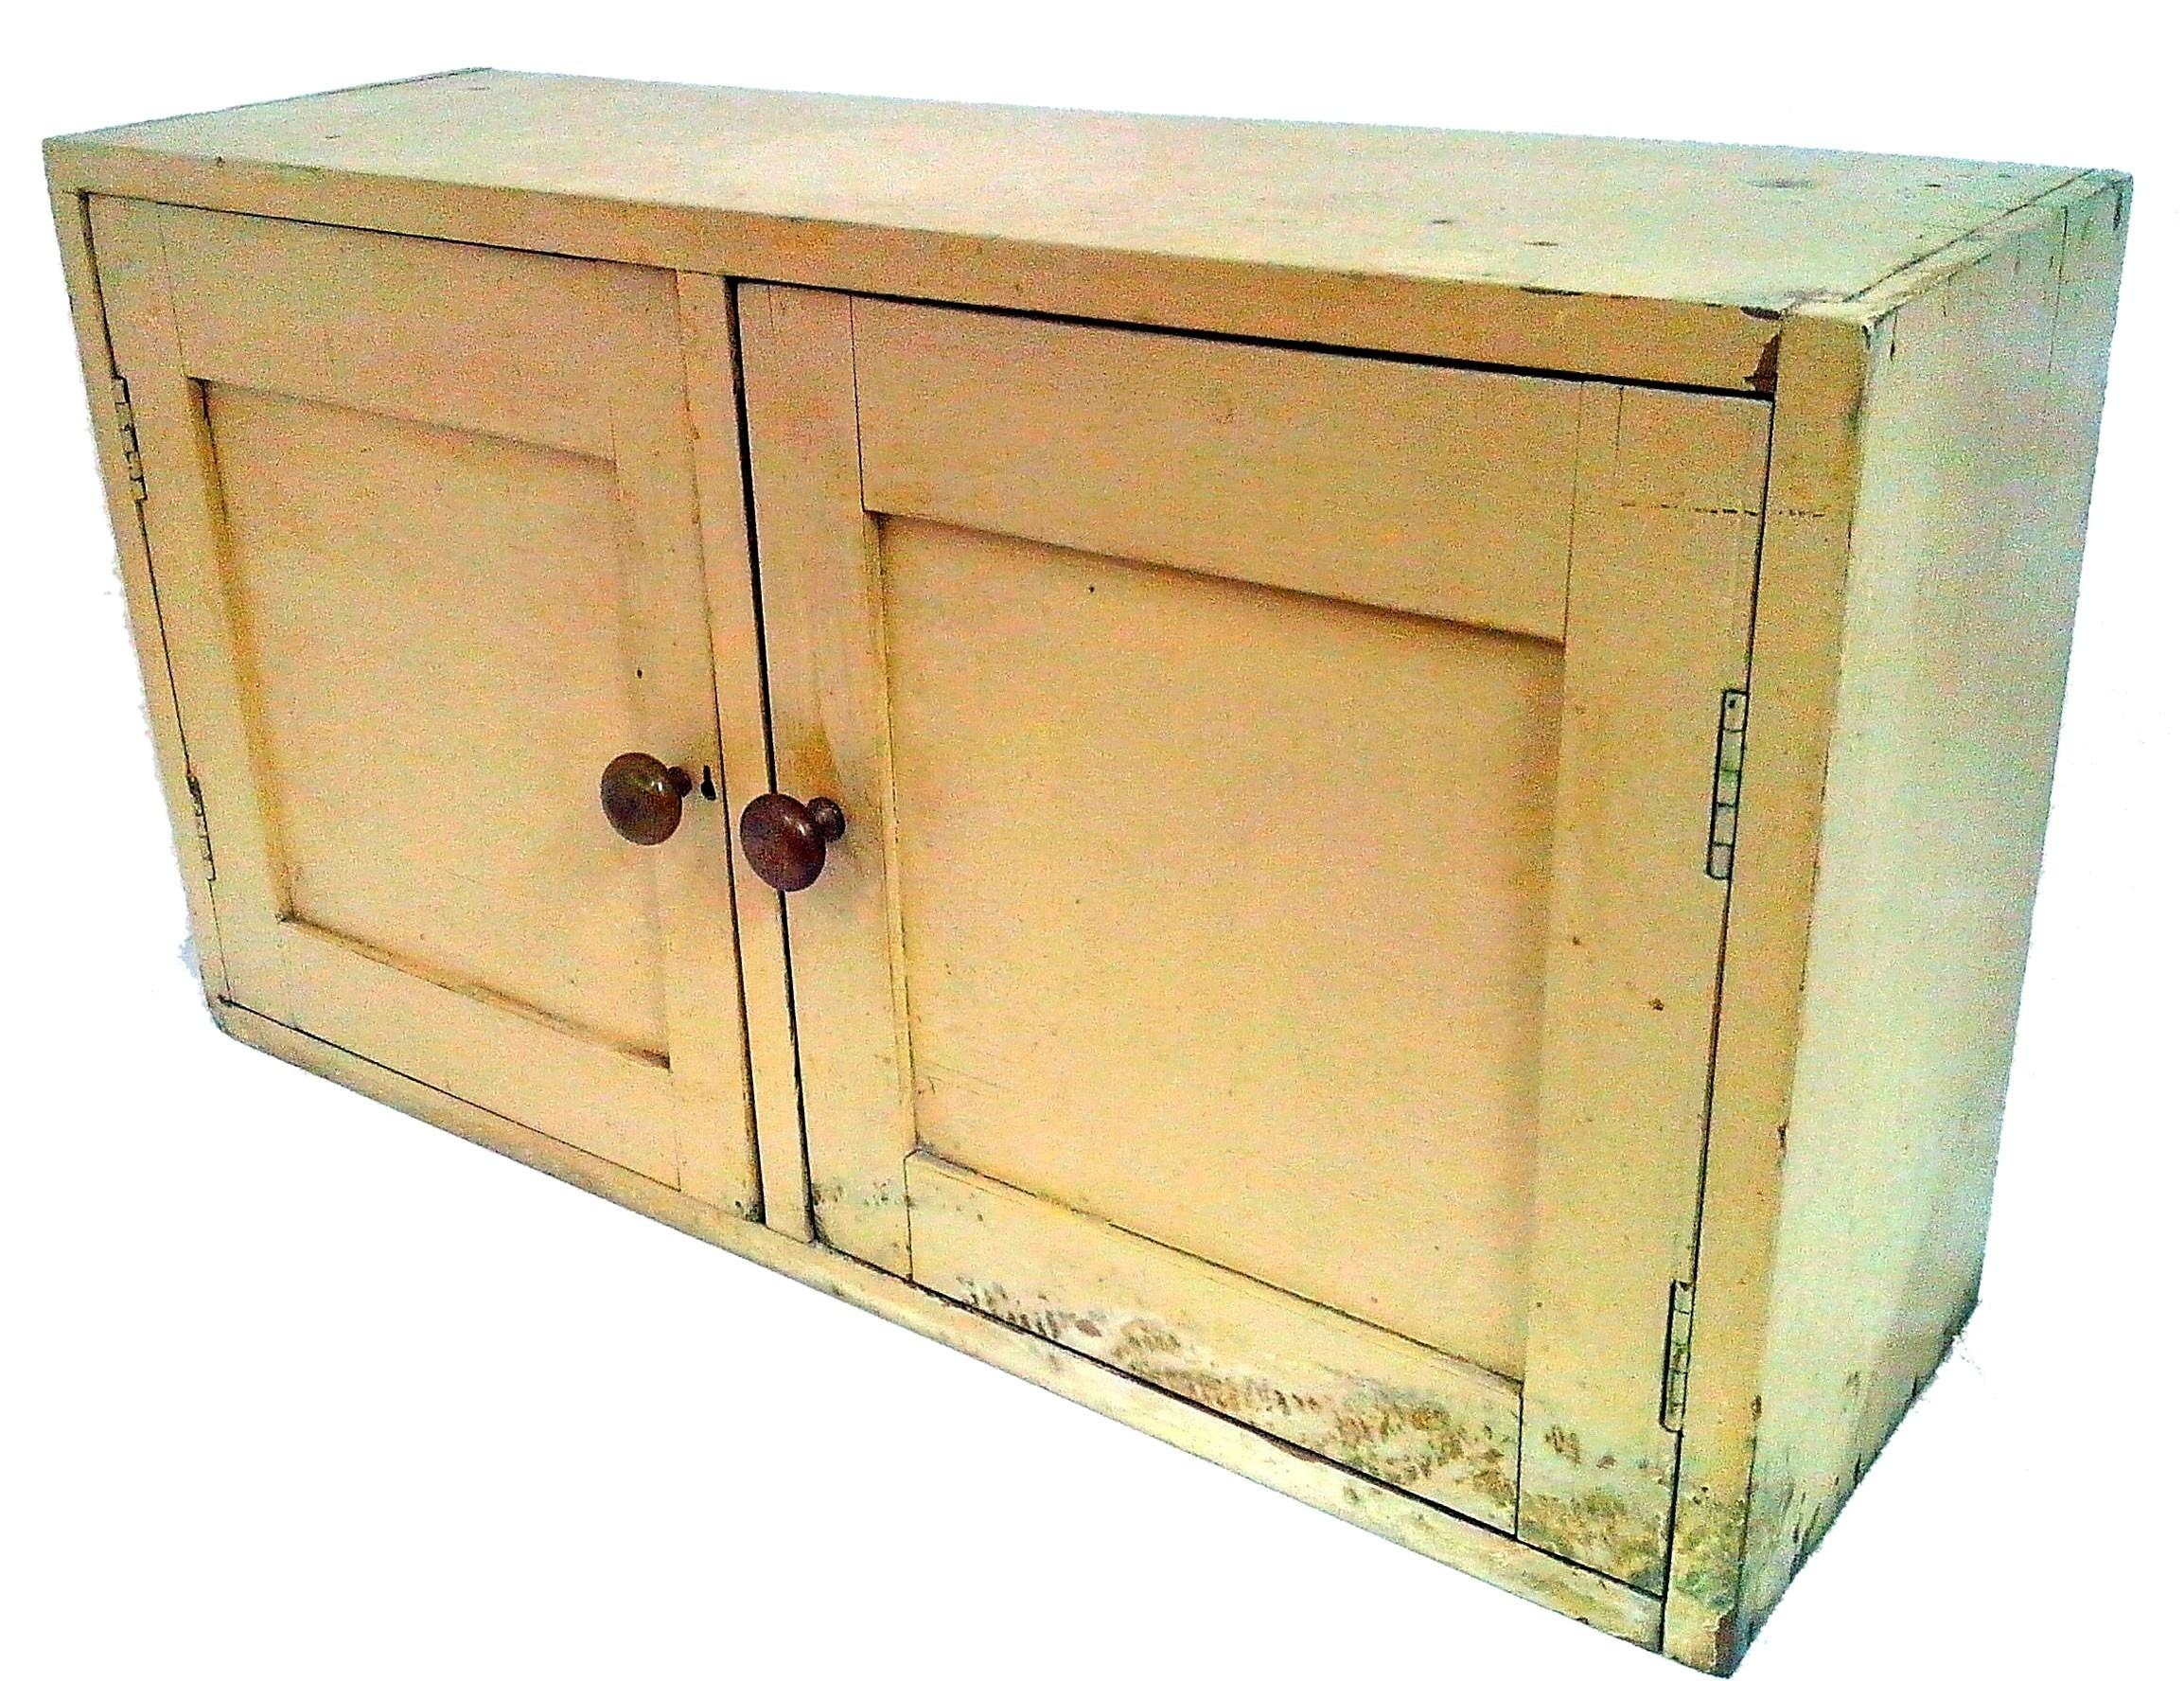cabinet_door: (768, 348, 1728, 1402), (164, 247, 727, 1114)
handle: (736, 780, 851, 902), (595, 743, 696, 855)
